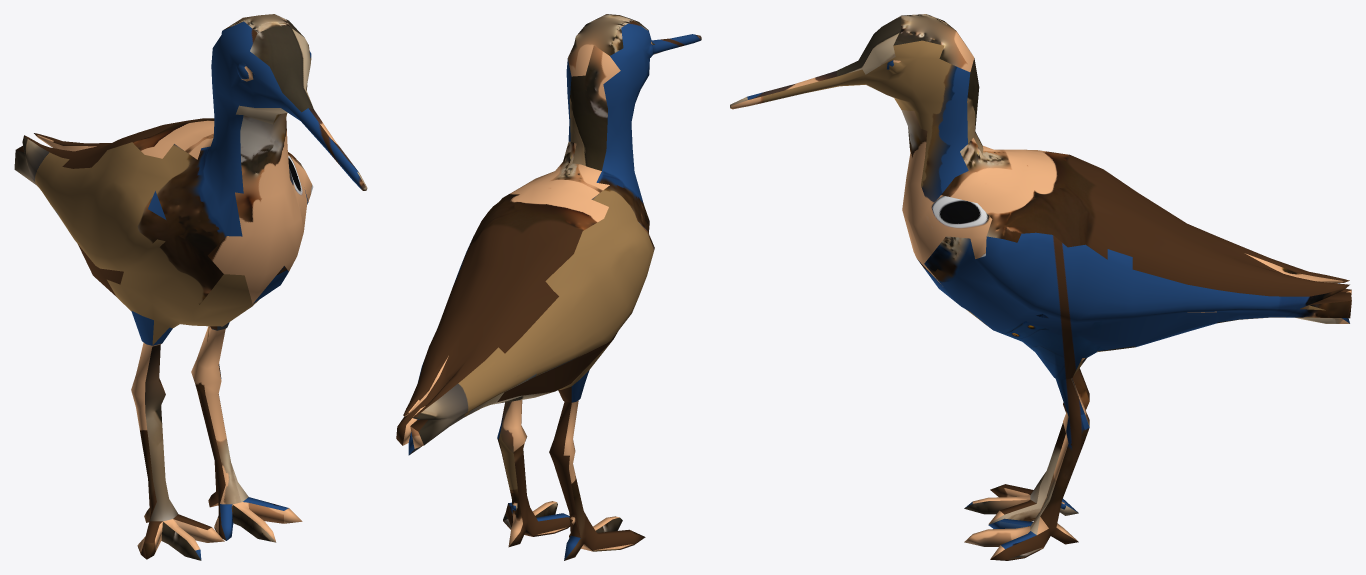
File: pajaro.fbx
3 views of the same model, side by side, from view 1: azimuth 30°, elevation 25°; view 2: azimuth 150°, elevation 25°; view 3: azimuth 270°, elevation 25° (orthographic). The views are drawn at different scales.
Visible parts, largest first — view 1: mesh_rep_0_ori_repair_quad; view 2: mesh_rep_0_ori_repair_quad; view 3: mesh_rep_0_ori_repair_quad.
Part boxes in pixels (<box>): mesh_rep_0_ori_repair_quad: <box>14,14,367,560</box>; mesh_rep_0_ori_repair_quad: <box>396,14,701,560</box>; mesh_rep_0_ori_repair_quad: <box>730,14,1351,560</box>.
Bounding box in the file's own units: 31.51 × 93.17 × 103.
